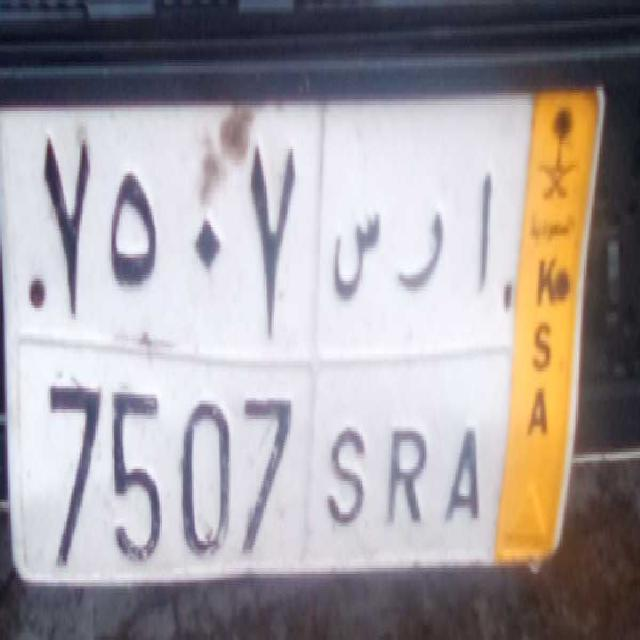license_plate: (12, 338, 502, 574)
